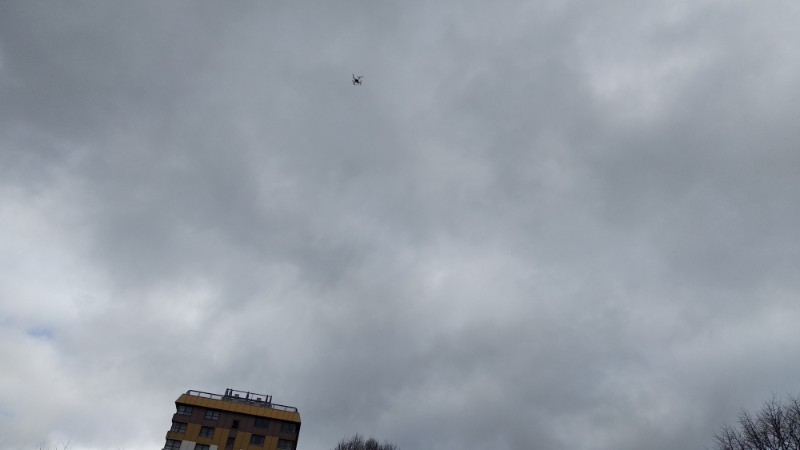drone: (351, 75, 363, 87)
